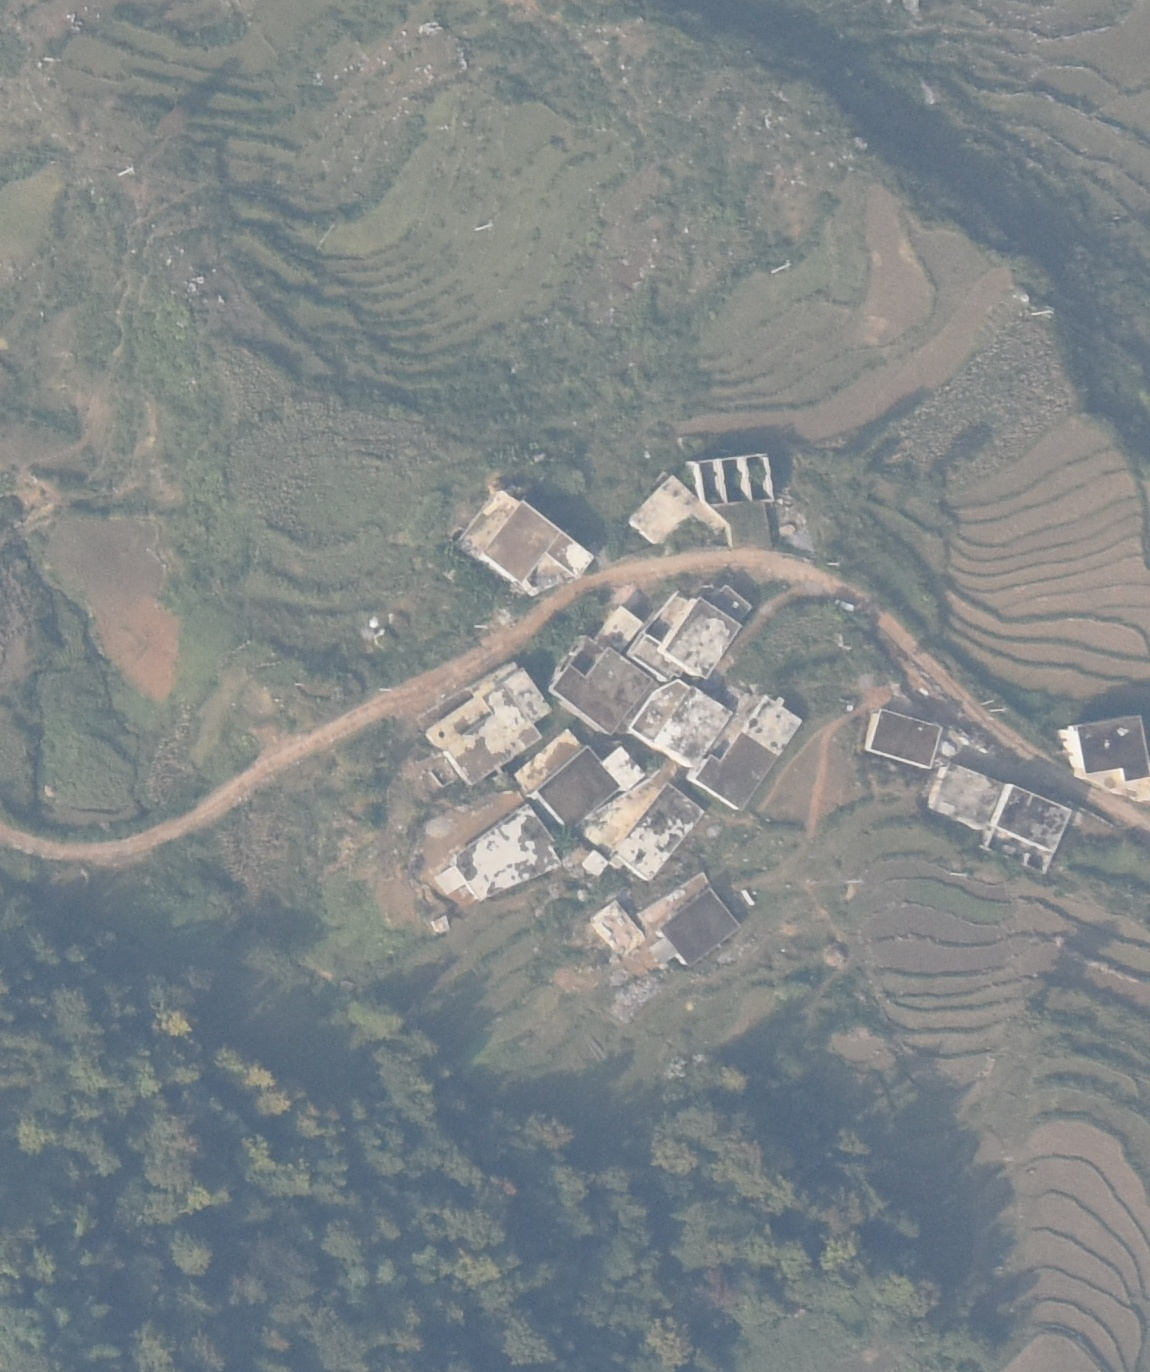building: (933, 750, 1076, 888), (445, 489, 596, 600), (431, 809, 560, 920), (439, 666, 554, 785), (690, 693, 805, 807), (630, 587, 760, 685), (552, 632, 661, 739), (631, 674, 731, 769), (645, 884, 745, 972), (528, 745, 625, 833), (619, 785, 706, 882), (1061, 705, 1150, 791), (683, 445, 787, 515), (861, 703, 944, 776), (629, 469, 698, 541)
